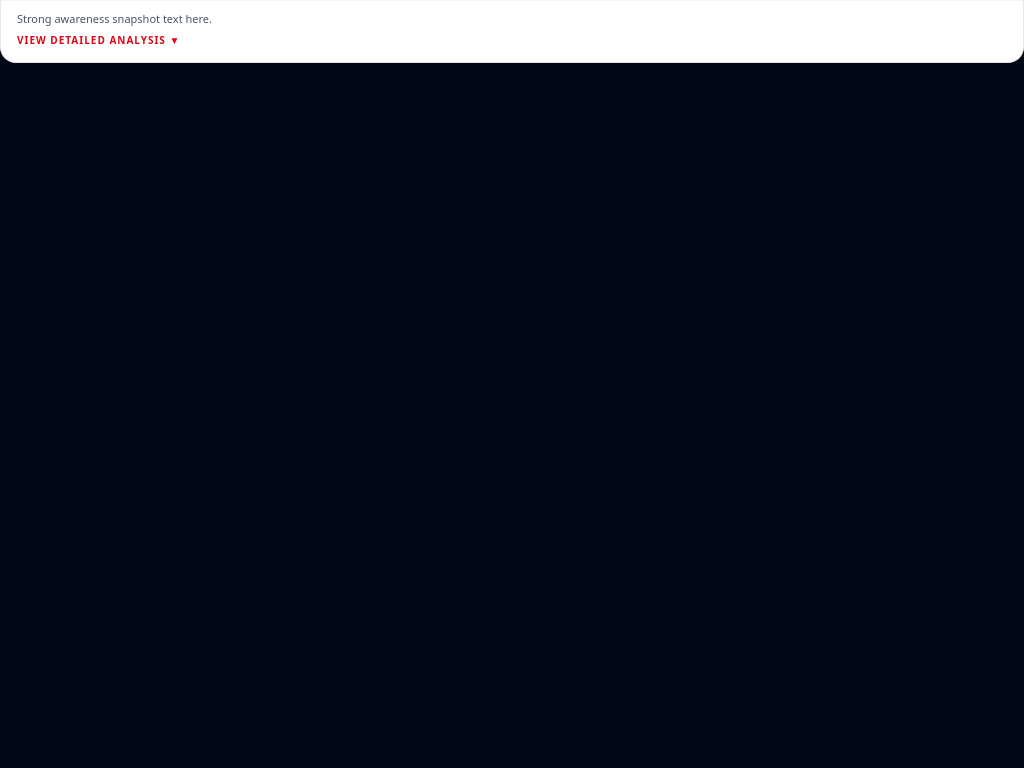
KpiCardAnalysisFooter › modal opens after clicking the button
Click the button "VIEW DETAILED ANALYSIS ▼": click(99, 41) [17,33,180,48]
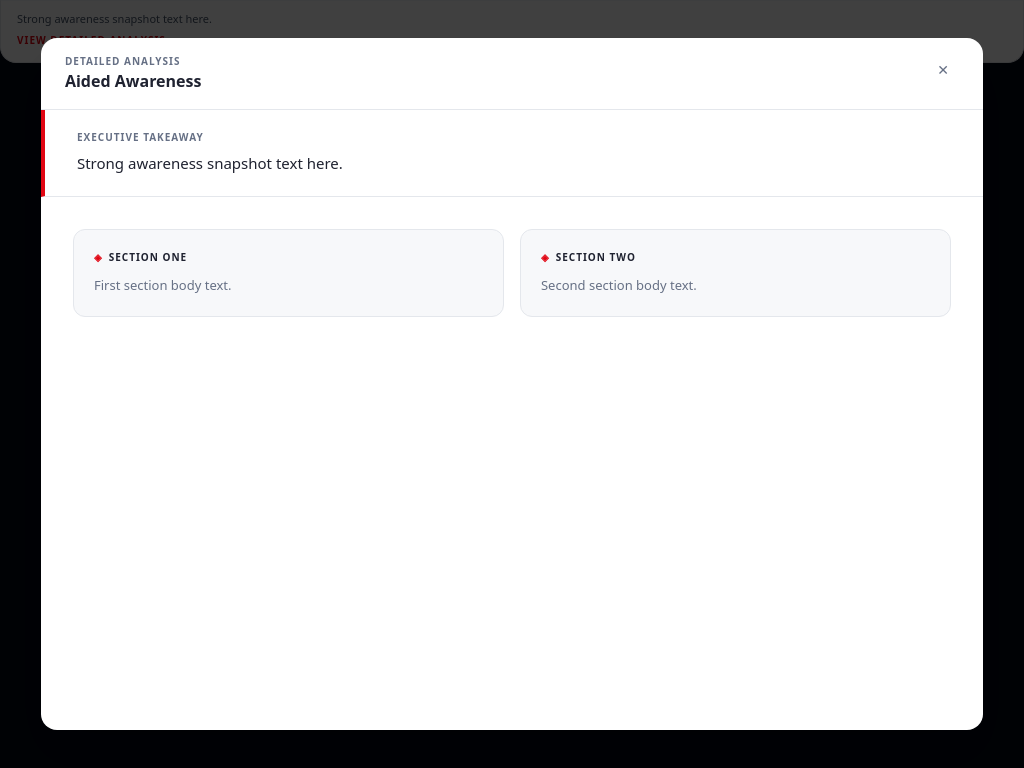
Expected: the dialog is shown
